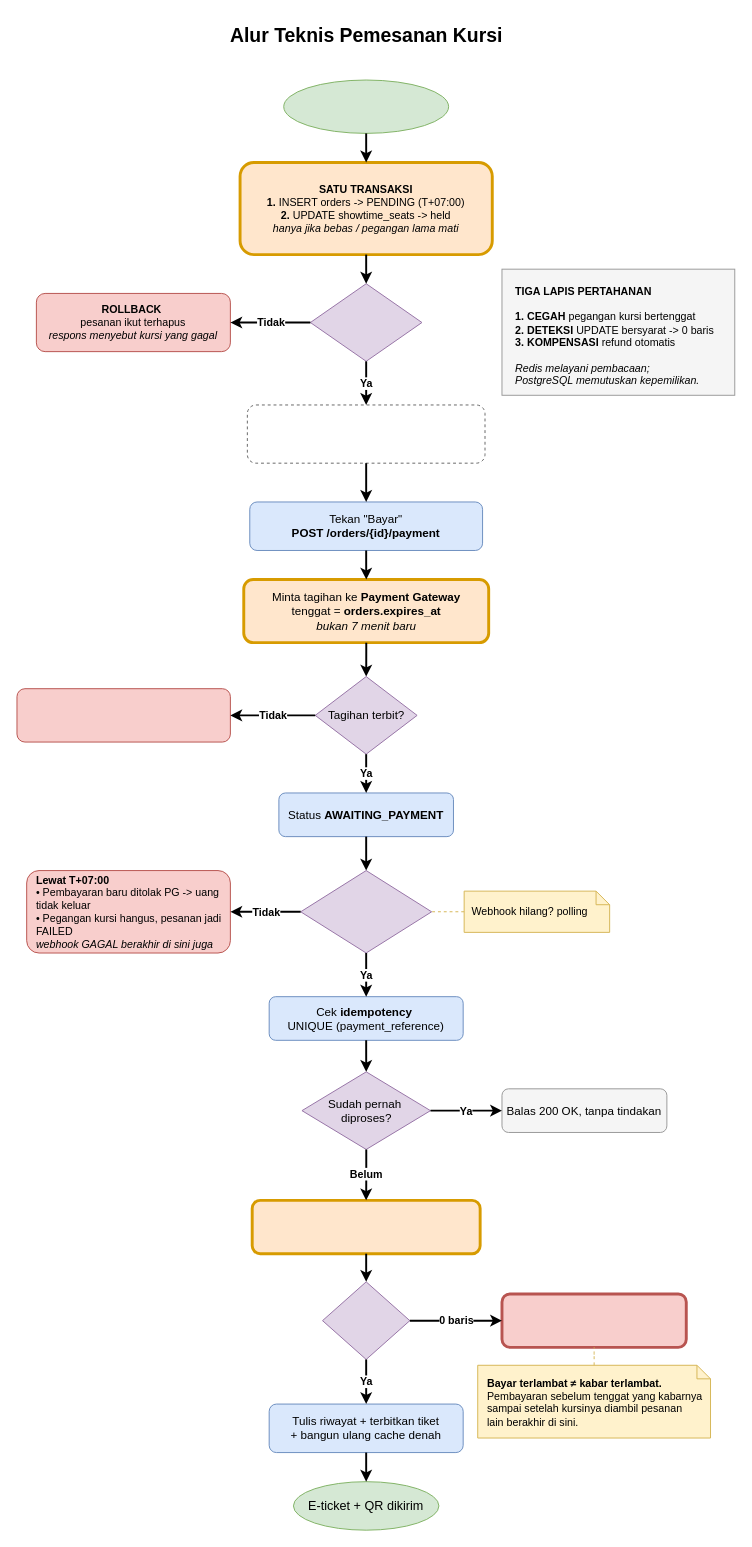
Some shapes in this 752 by 1547 pixel diagram are drawn without their labels. The centre of each missing label's shape, as x and y in pixels:
Ada baris terubah?: [366,1320]
Dicoba ulang lagi. Masih gagal -> pesanan dibatalkan, kursi dilepas segera: [123,715]
Halaman ringkasan pilih metode pembayaran hitung mundur tetap jalan: [365,433]
REFUND OTOMATIS 0 baris = kursi milik pesanan lain: [593,1320]
Semua kursi didapat?: [365,322]
Tekan "Lanjutkan" POST /orders: [366,106]
UPDATE showtime_seats -> 'sold' WHERE held_by_order = pesanan ini: [365,1226]
Webhook masuk & LUNAS?: [366,911]
